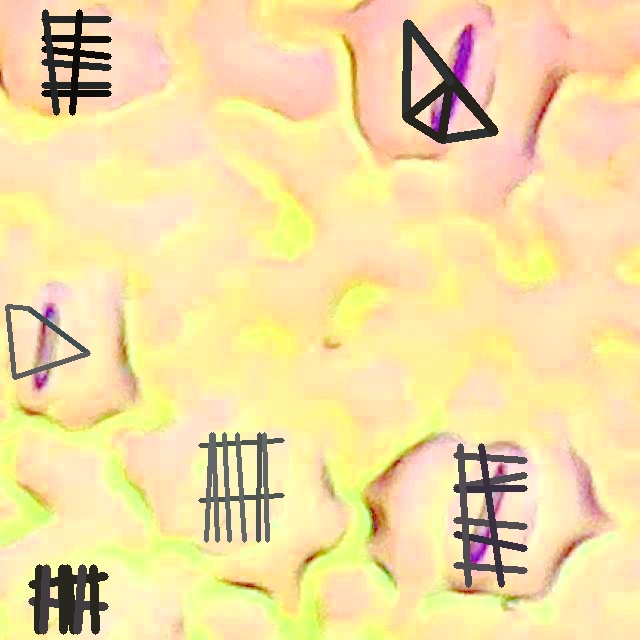close: (198, 433, 284, 542), (42, 10, 111, 115), (28, 564, 108, 633)
open: (402, 19, 498, 143), (453, 443, 527, 587), (5, 306, 90, 379)
